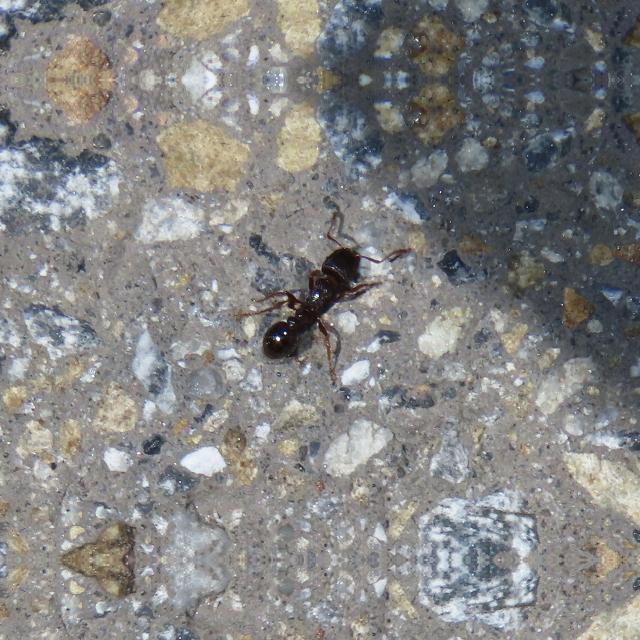Tetramorium: (266, 207, 372, 375)
